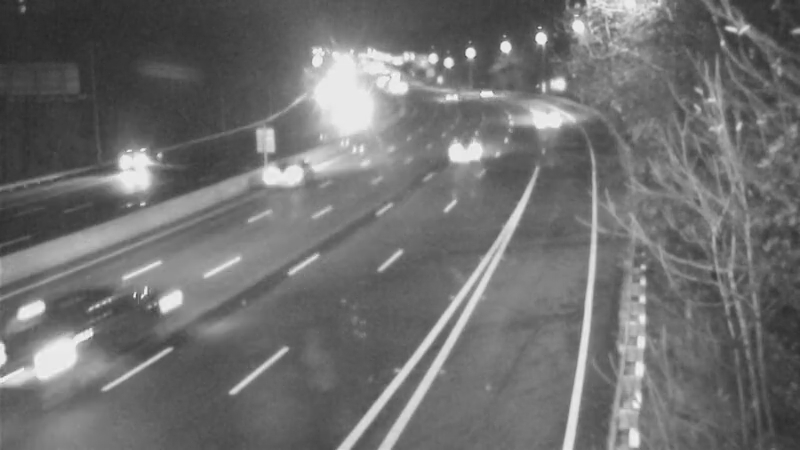vehicle: (2, 306, 112, 416), (421, 113, 501, 193), (236, 136, 316, 216), (92, 120, 172, 200), (462, 69, 512, 119), (421, 71, 471, 121), (520, 100, 570, 150), (331, 97, 381, 147)
